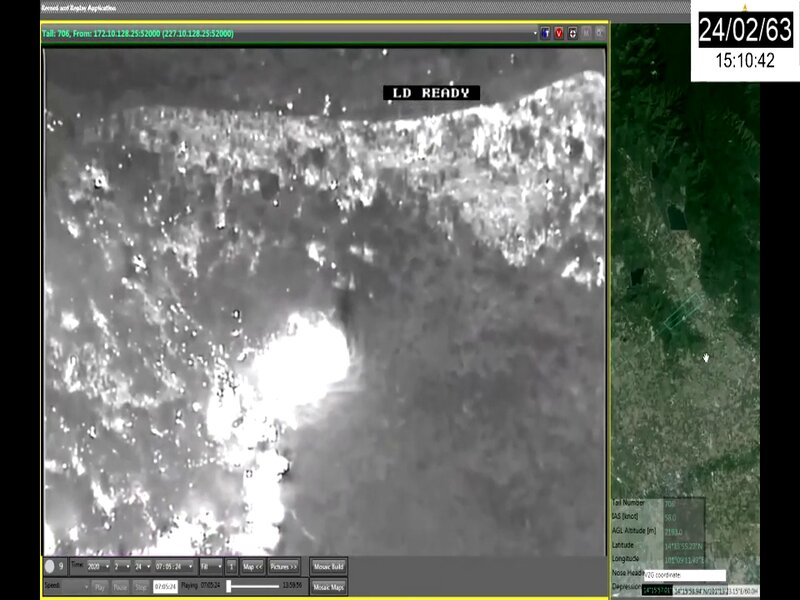Fire: (133, 315, 348, 555)
